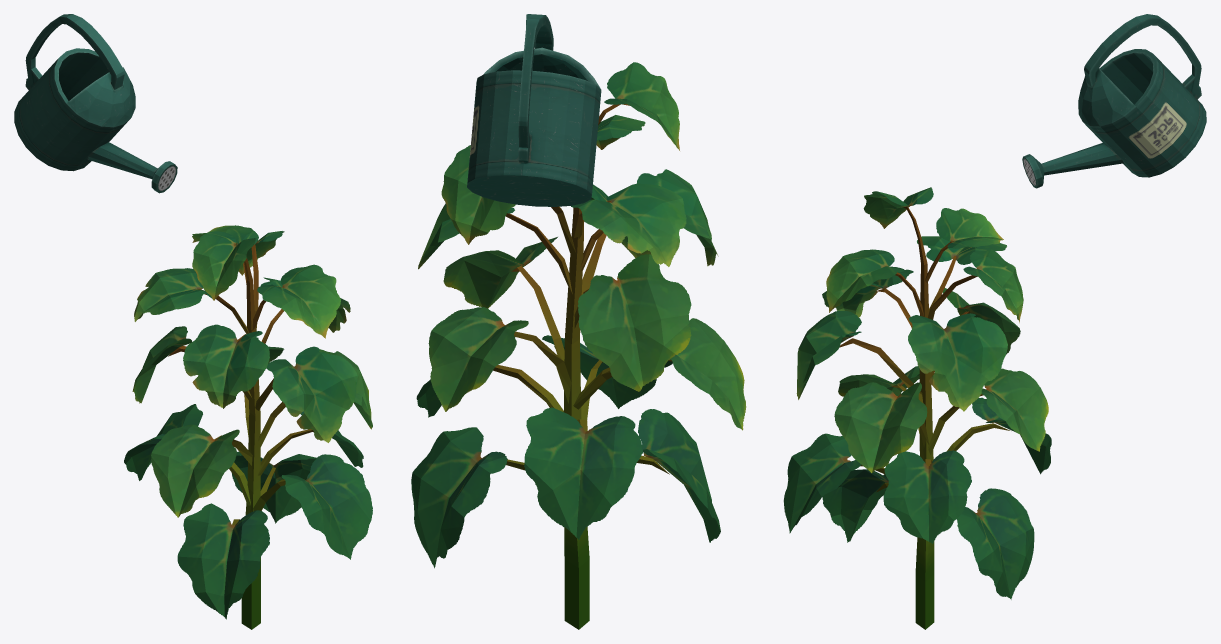
File: P_Plant_003_S1_M01.obj
3 views of the same model, side by side, from view 1: azimuth 30°, elevation 25°; view 2: azimuth 150°, elevation 25°; view 3: azimuth 270°, elevation 25° (orthographic). The views are drawn at different scales.
Bounding box in the file's own units: 0.8915 × 2.03 × 1.38.
Materials: 2 (2 with a texture image).
